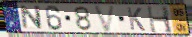6: (44, 4, 64, 32)
8: (73, 6, 93, 32)
H: (145, 4, 175, 34)
K: (126, 6, 147, 32)
N: (19, 5, 45, 31)
V: (93, 5, 118, 33)
